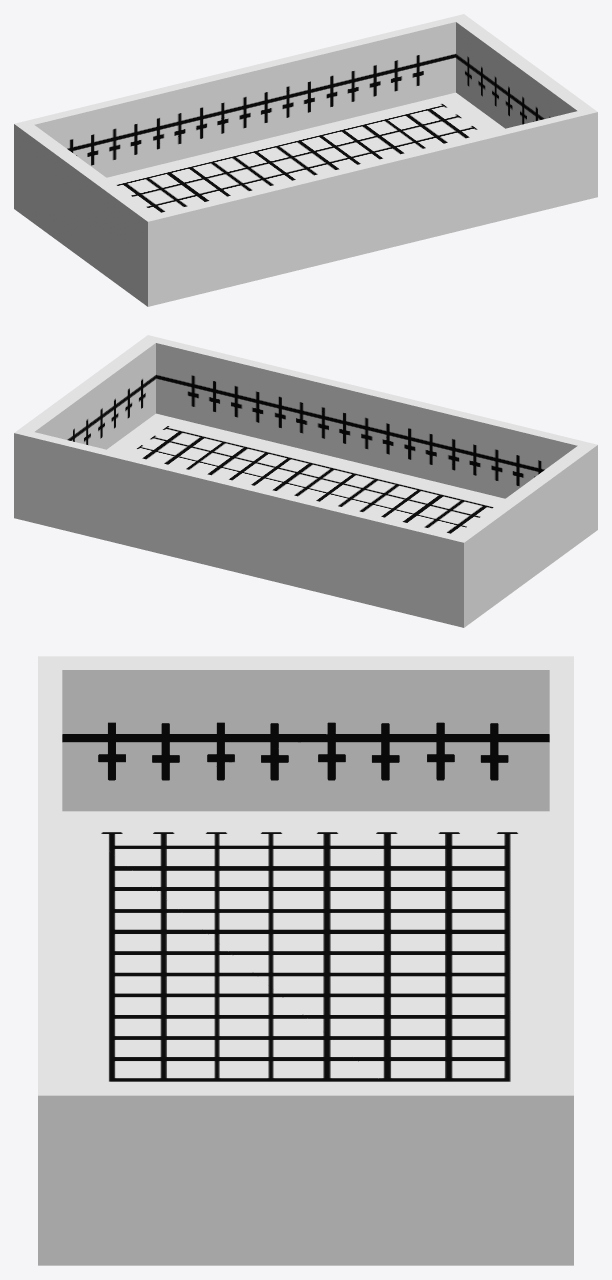
Rendered from pool_model.obj.
3 renders of one model, top to bottom at view 1: azimuth 30°, elevation 25°; view 2: azimuth 150°, elevation 25°; view 3: azimuth 270°, elevation 25°, orthographic. The views are drawn at different scales.
Visible parts, largest first — view 1: Cube.001; view 2: Cube.001; view 3: Cube.001.
Boxes of the visible parts, x1,y1,x2,y2 form: Cube.001: [14, 14, 597, 306]; Cube.001: [14, 335, 597, 627]; Cube.001: [38, 656, 573, 1265].
Bounding box in the file's own units: 53.35 × 9.64 × 27.5.
1 material, 1 textured.
